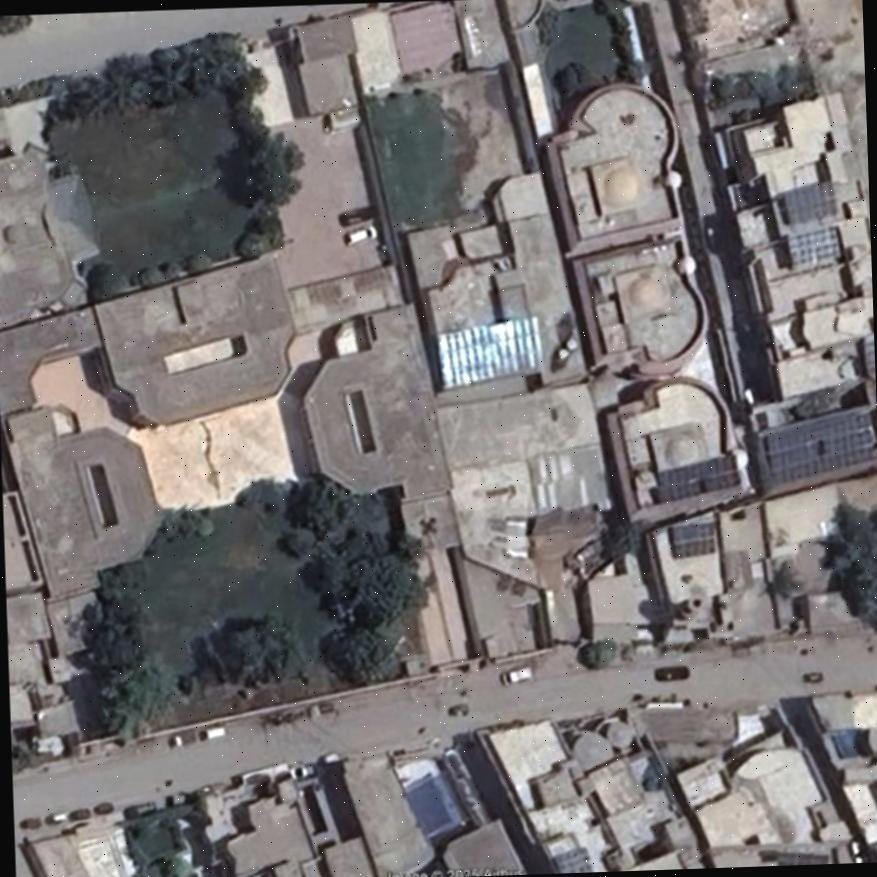Solarpanel: (763, 409, 877, 485), (437, 313, 545, 388), (658, 455, 738, 502), (782, 181, 836, 221), (789, 226, 841, 264), (670, 522, 714, 554)
